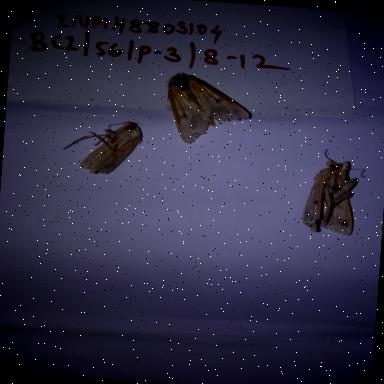abw: (289, 138, 379, 243), (152, 66, 260, 152), (53, 110, 154, 186)
